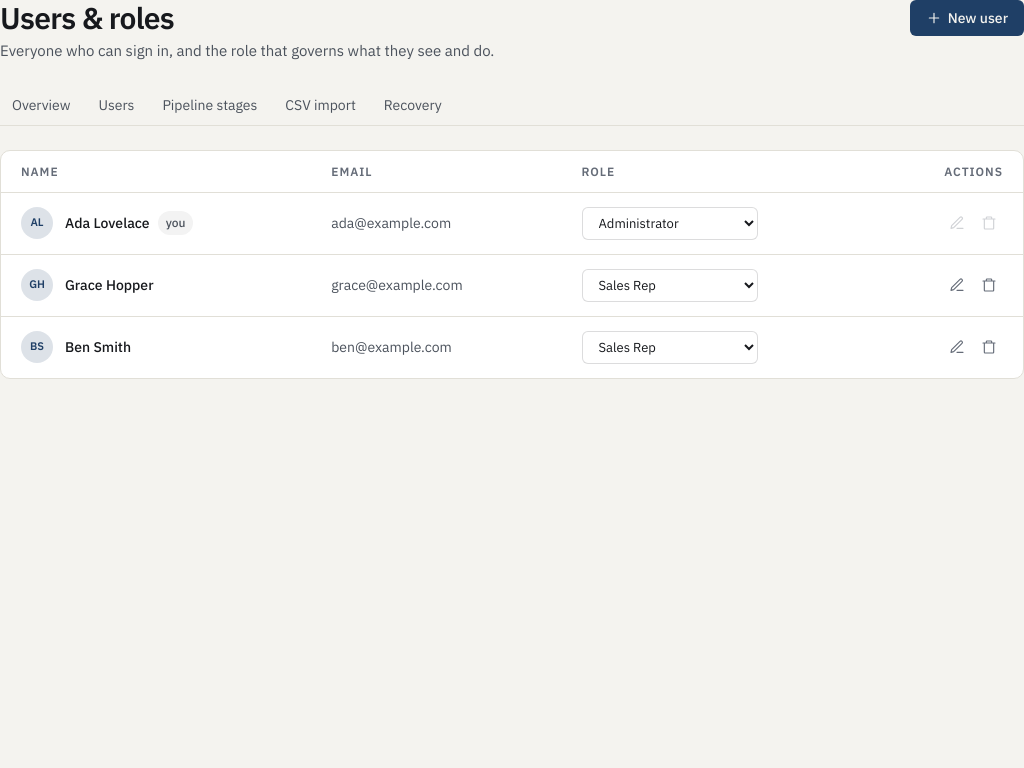
Test: AdminUsersPage › creates a user, confirms the invitation and reloads the list
Check: the text "Ada Lovelace" is shown, box [65,213,150,233]
Click the button "New user" at (967, 18), box [910,0,1023,36]
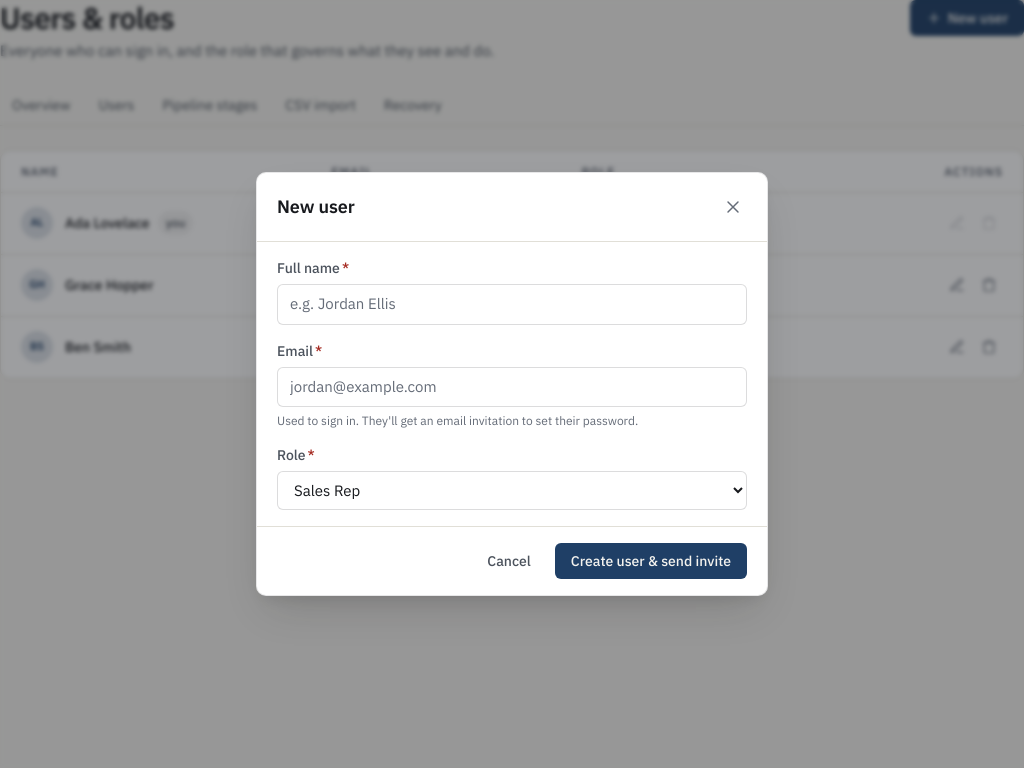
Type "Linus Torvalds" into the field labelled "Full name*" at (512, 304), box [277,284,747,324]
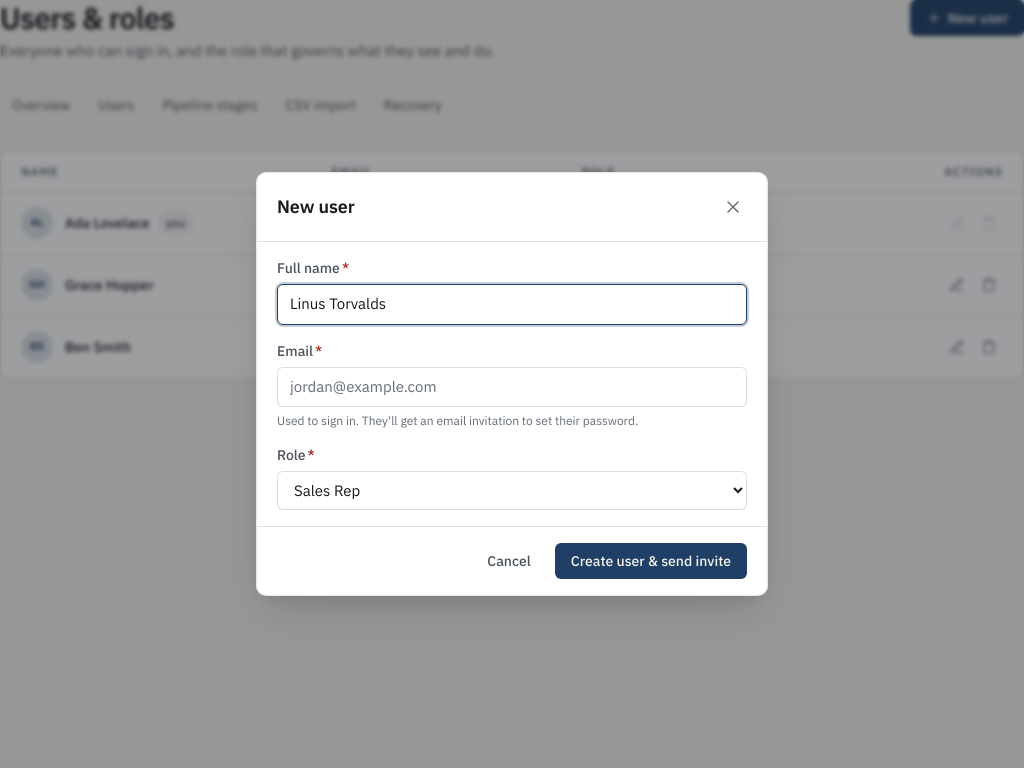
Type "linus@example.com" into the field labelled "Email*" at (512, 387), box [277,366,747,407]
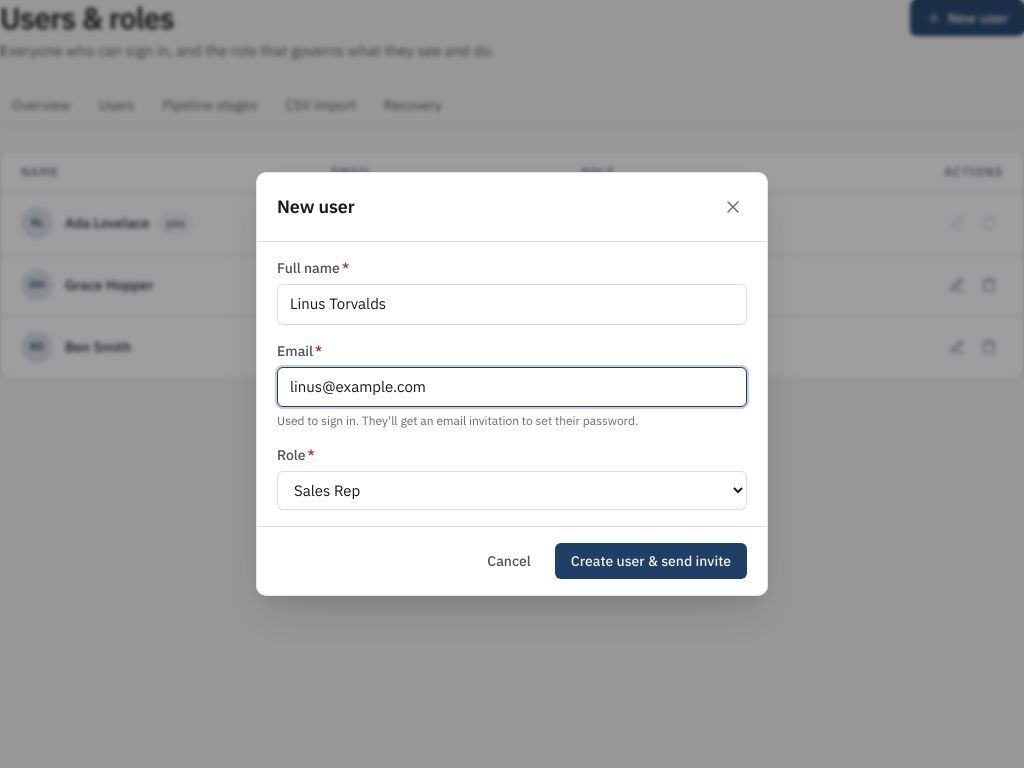
Select "Manager" in the dropdown labelled "Role*" at (512, 490), box [277,471,747,510]
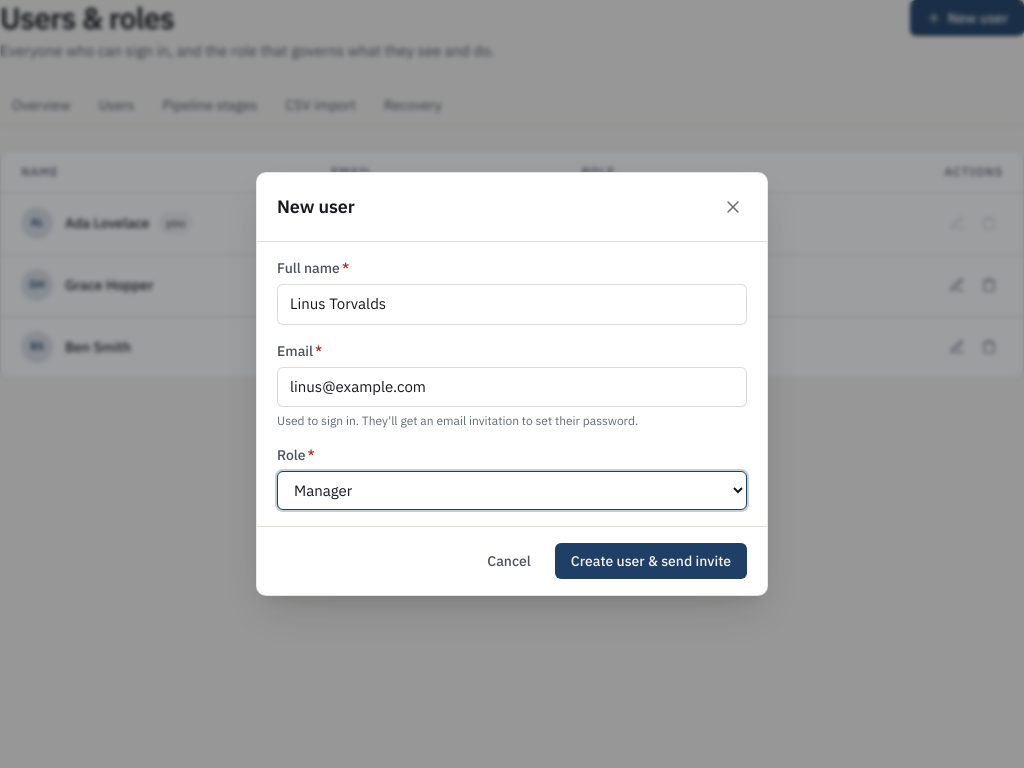
Click the button "Create user & send invite" at (651, 561), box [555,543,747,579]
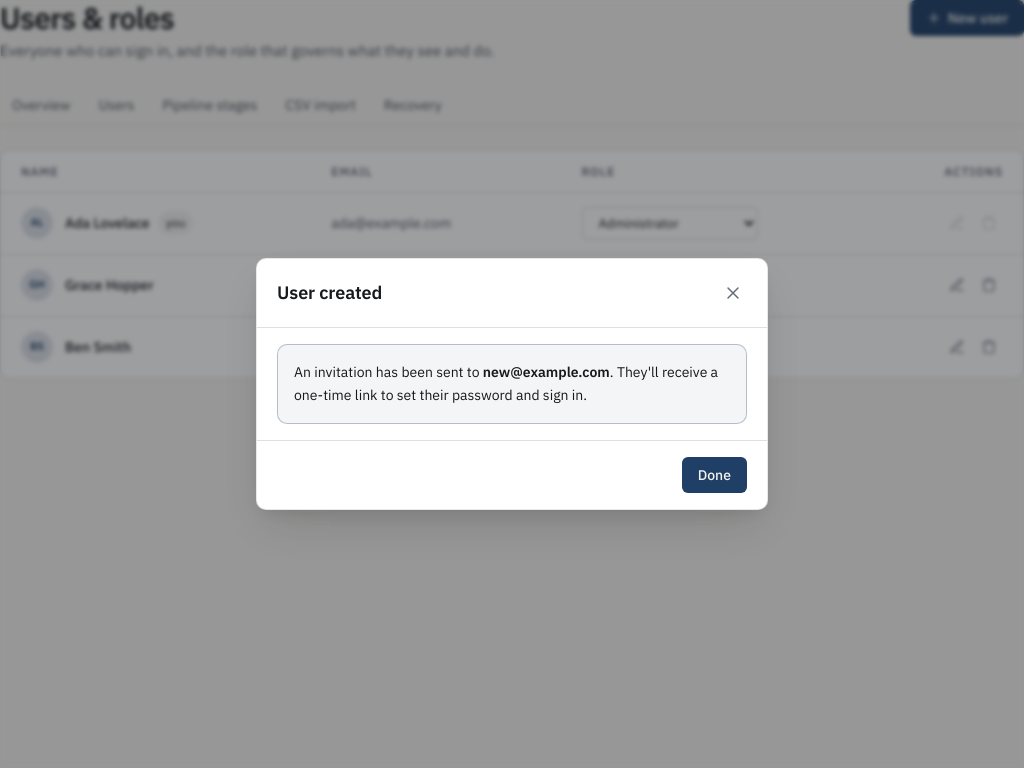
Check: the text "An invitation has been sent to" is shown, box [294,363,480,381]
Check: the text "new@example.com" is shown, box [483,363,610,381]
Click the button "Done" at (714, 475), box [682,457,747,493]
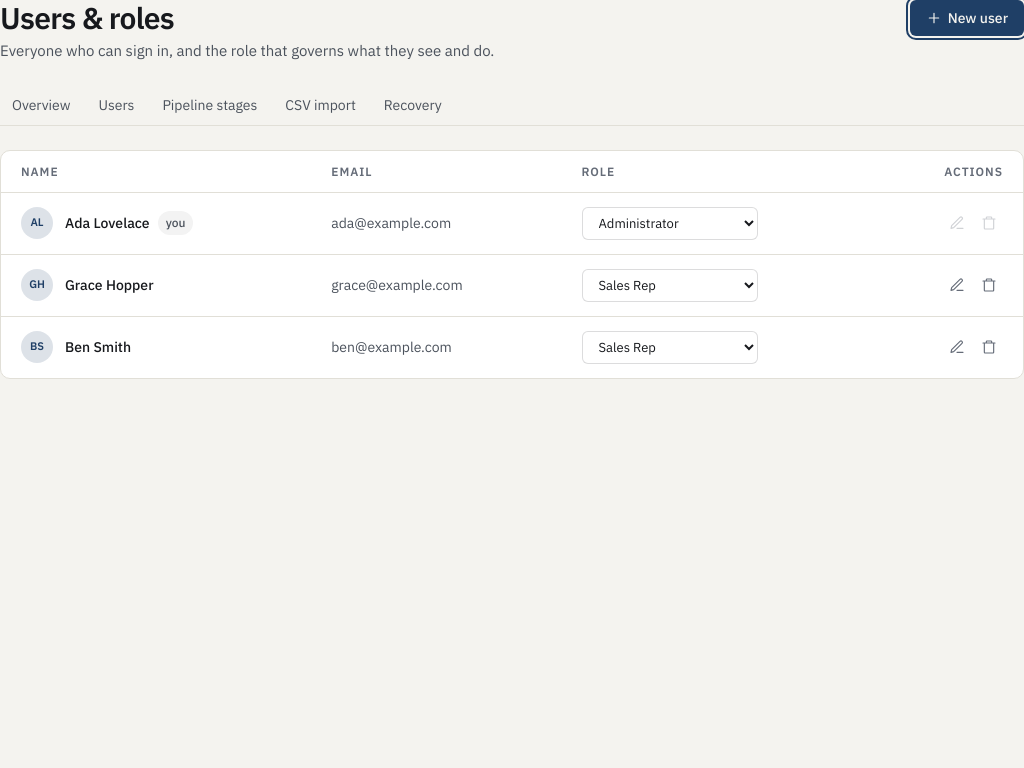
Check: the heading "User created" is gone
